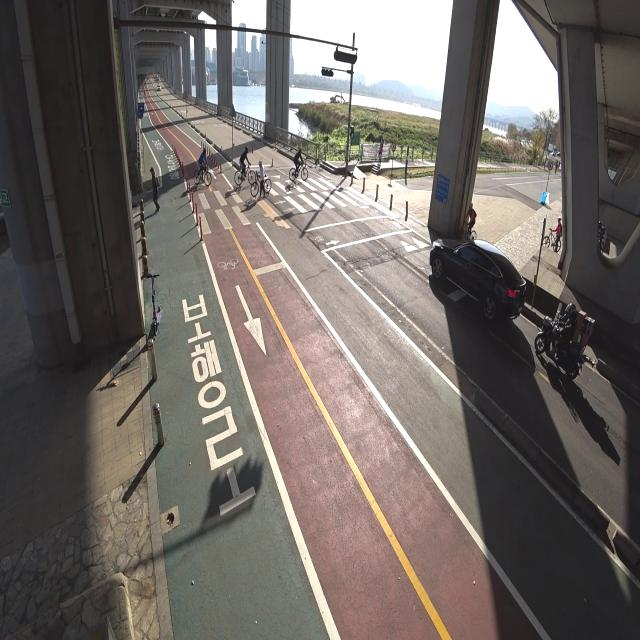Car: (428, 231, 532, 329), (154, 84, 163, 96)
Motorcycle: (534, 298, 594, 383)
